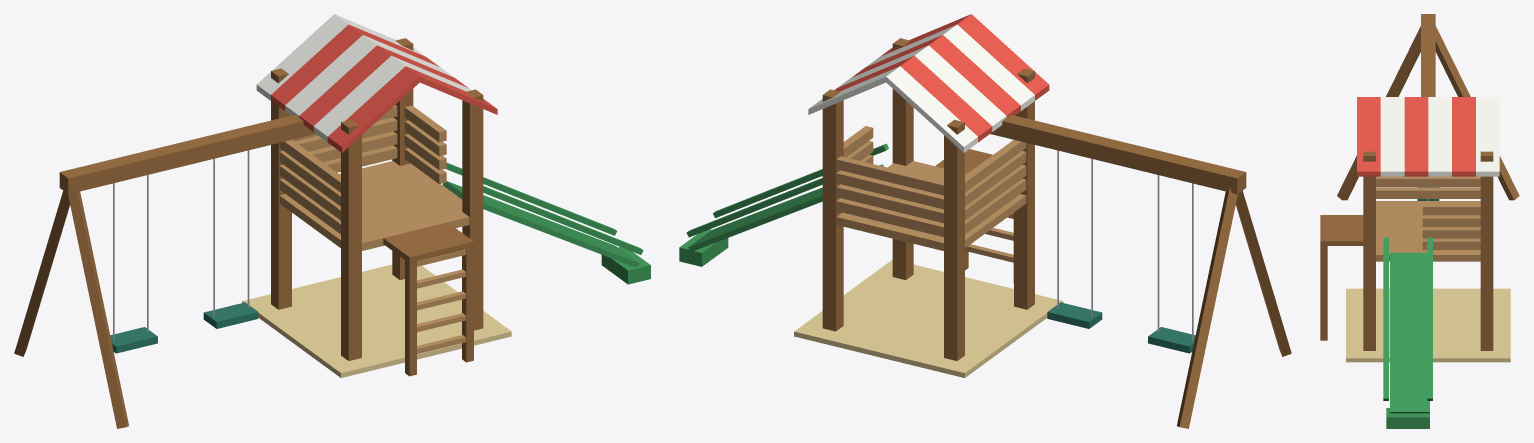
The model's file is play-fort.glb.
3 views of the same model, side by side, from view 1: azimuth 30°, elevation 25°; view 2: azimuth 150°, elevation 25°; view 3: azimuth 270°, elevation 25° (orthographic). The views are drawn at different scales.
Visible parts, largest first — view 1: PlayFort_Wood, PlayFort_WoodLight, PlayFort_Sand, PlayFort_CanRed, PlayFort_CanWhite, PlayFort_Slide, PlayFort_Seat, PlayFort_Chain; view 2: PlayFort_Wood, PlayFort_Sand, PlayFort_WoodLight, PlayFort_CanWhite, PlayFort_CanRed, PlayFort_Slide, PlayFort_Seat, PlayFort_Chain; view 3: PlayFort_Wood, PlayFort_Slide, PlayFort_WoodLight, PlayFort_Sand, PlayFort_CanRed, PlayFort_CanWhite.
Part boxes in pixels (<box>): PlayFort_Wood: <box>14,38,483,428</box>; PlayFort_WoodLight: <box>279,105,469,353</box>; PlayFort_Sand: <box>242,264,511,377</box>; PlayFort_CanRed: <box>271,24,497,152</box>; PlayFort_CanWhite: <box>256,14,471,142</box>; PlayFort_Slide: <box>442,163,650,284</box>; PlayFort_Seat: <box>110,302,258,353</box>; PlayFort_Chain: <box>113,150,249,341</box>; PlayFort_Wood: <box>822,38,1291,428</box>; PlayFort_Sand: <box>794,259,1063,377</box>; PlayFort_WoodLight: <box>836,126,1026,262</box>; PlayFort_CanWhite: <box>808,24,1034,152</box>; PlayFort_CanRed: <box>834,14,1049,142</box>; PlayFort_Slide: <box>679,143,888,266</box>; PlayFort_Seat: <box>1047,302,1195,353</box>; PlayFort_Chain: <box>1057,150,1193,341</box>; PlayFort_Wood: <box>1320,14,1519,350</box>; PlayFort_Slide: <box>1383,237,1432,428</box>; PlayFort_WoodLight: <box>1376,176,1480,261</box>; PlayFort_Sand: <box>1346,288,1510,362</box>; PlayFort_CanRed: <box>1357,97,1475,176</box>; PlayFort_CanWhite: <box>1380,97,1499,176</box>.
Bounding box in the file's own units: 29.6 × 13.9 × 10.89.
